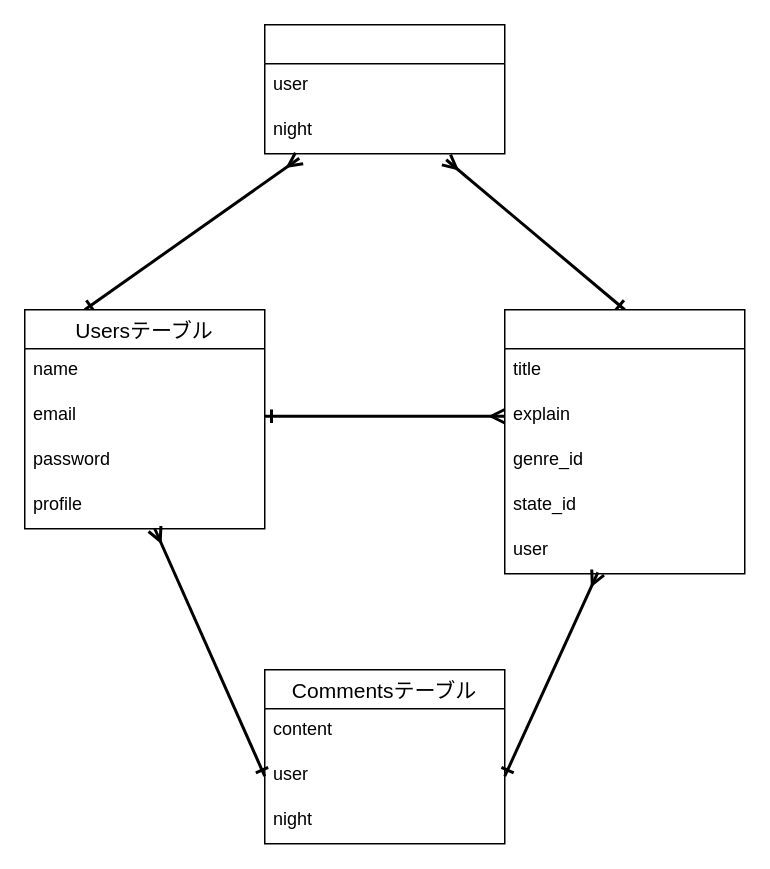
Some shapes in this 770 by 869 pixel diagram are drawn without their labels. The box of each missing label's shape, as (x1, y1, x2, y2) in pixels:
Likesテーブル: (263, 23, 505, 154)
Nightsテーブル: (503, 308, 745, 574)
